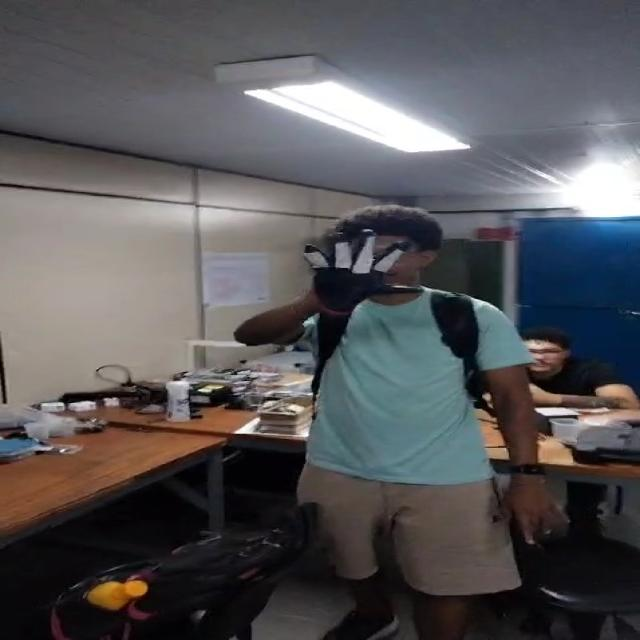Gloves: (301, 230, 412, 322)
